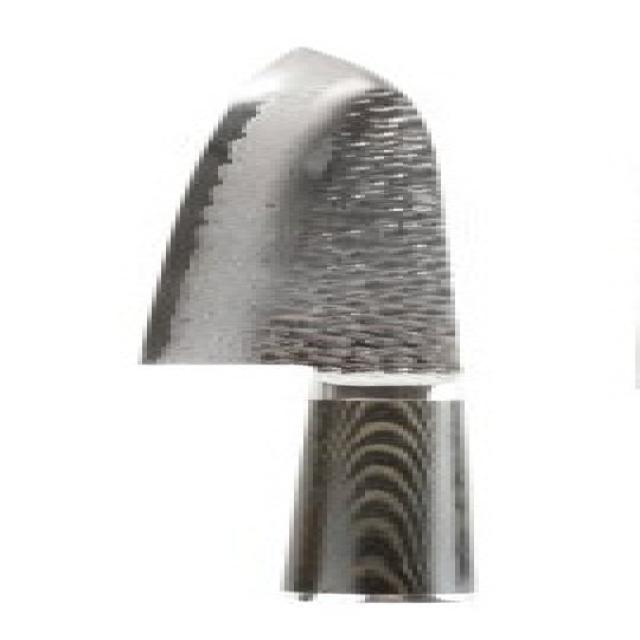knife: (123, 40, 566, 622)
